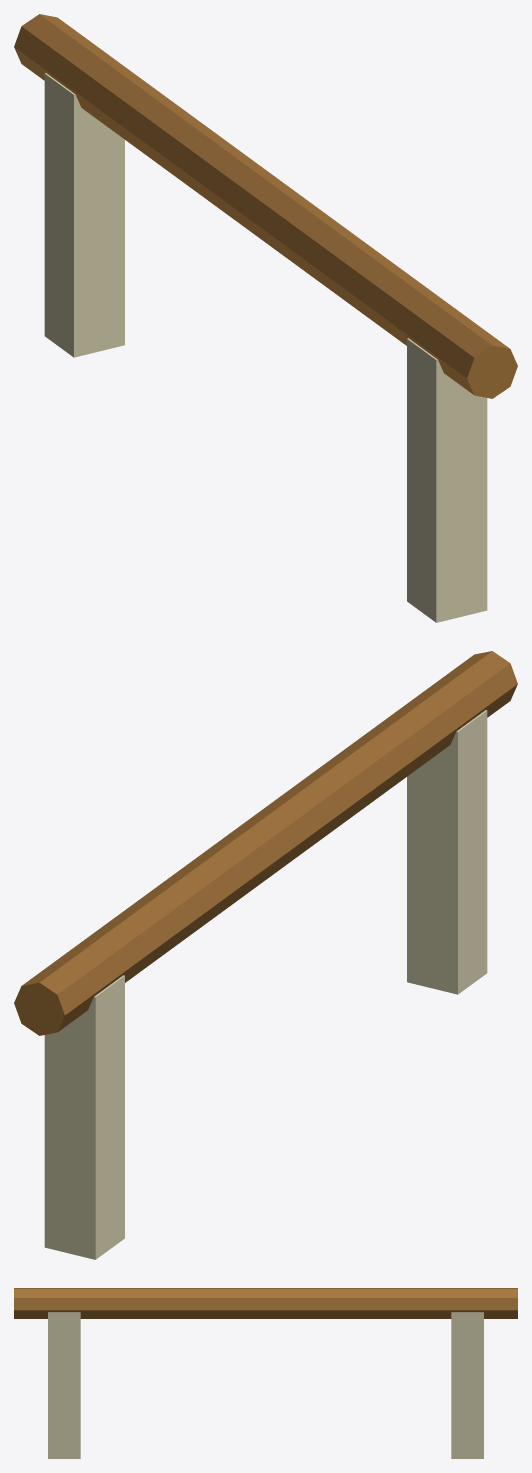
File: C_Perch_2m.fbx
3 views of the same model, one above another, from view 1: azimuth 30°, elevation 25°; view 2: azimuth 150°, elevation 25°; view 3: azimuth 270°, elevation 25° (orthographic). The views are drawn at different scales.
Visible parts, largest first — view 1: C_Perch_2m.005; view 2: C_Perch_2m.005; view 3: C_Perch_2m.005.
Part boxes in pixels (box(x1,y1,x2,y2)): C_Perch_2m.005: box(14, 14, 517, 622); C_Perch_2m.005: box(14, 651, 517, 1259); C_Perch_2m.005: box(14, 1288, 517, 1458).
Size of the model in its own units: 0.13 by 0.715 by 2.
